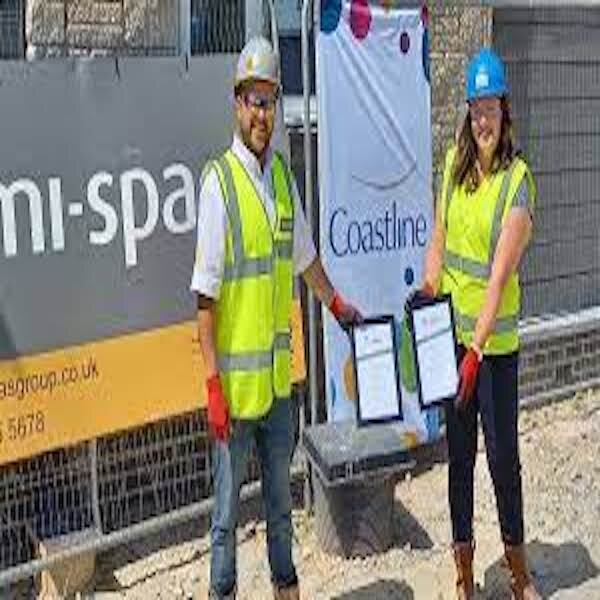helmet: (467, 49, 515, 104), (232, 39, 287, 83)
vest: (212, 150, 299, 430), (442, 152, 537, 364)
